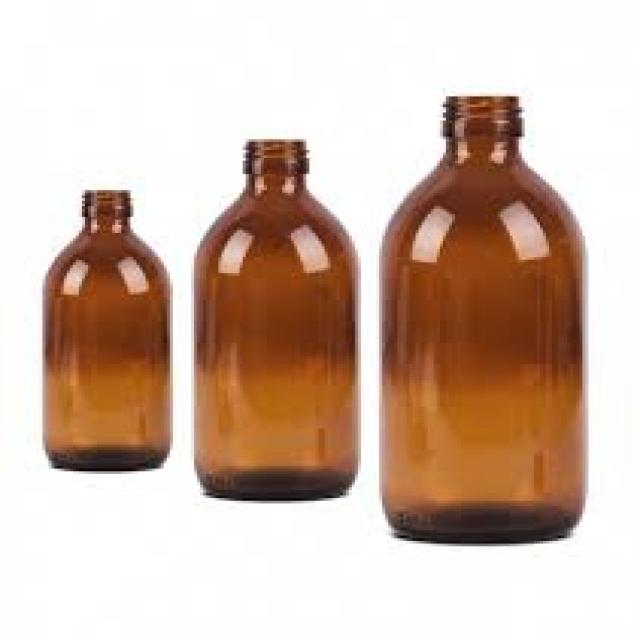glass: (379, 94, 586, 541), (191, 137, 358, 498), (33, 188, 167, 469)
